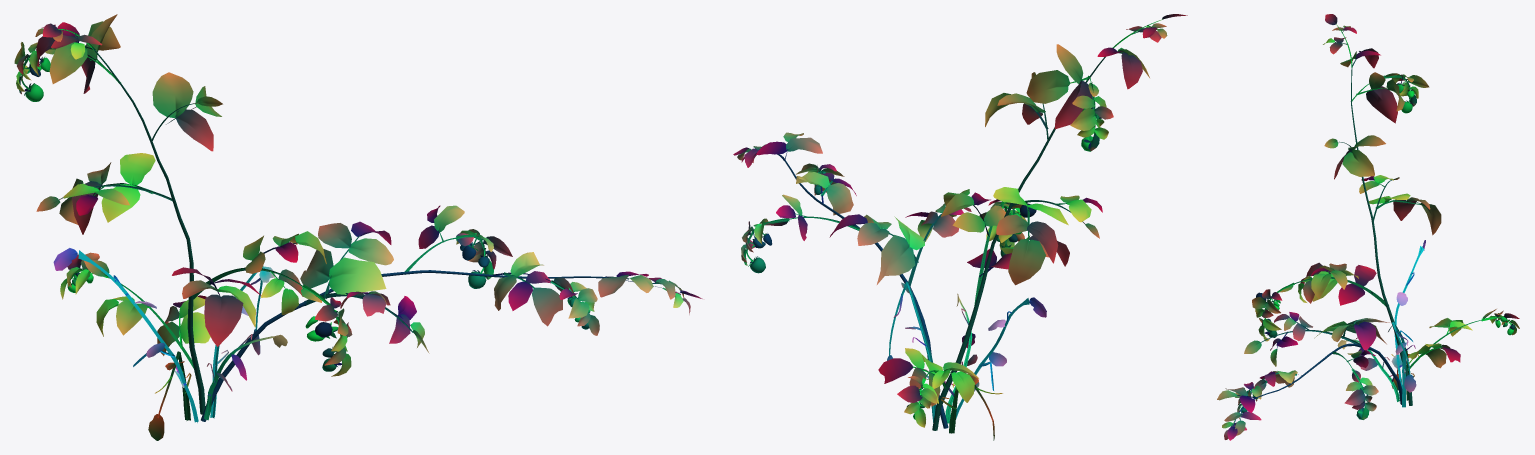
File: Raspberry_wf0oefeja_High_wf0oefeja_VarG_LOD0.fbx
The picture shows the model from 3 angles, left to right: view 1: azimuth 30°, elevation 25°; view 2: azimuth 150°, elevation 25°; view 3: azimuth 270°, elevation 25°; orthographic projection. The views are drawn at different scales.
Visible parts, largest first — view 1: _ki17_VarG_LOD0; view 2: _ki17_VarG_LOD0; view 3: _ki17_VarG_LOD0.
Boxes of the visible parts, x1,y1,x2,y2 form: _ki17_VarG_LOD0: (14, 14, 702, 440); _ki17_VarG_LOD0: (733, 14, 1187, 440); _ki17_VarG_LOD0: (1217, 14, 1519, 440).
Bounding box in the file's own units: 75.28 × 59.66 × 50.56.
